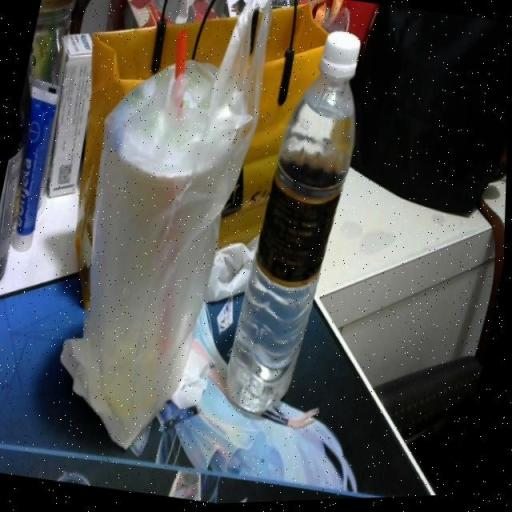plastic: (227, 33, 361, 420)
